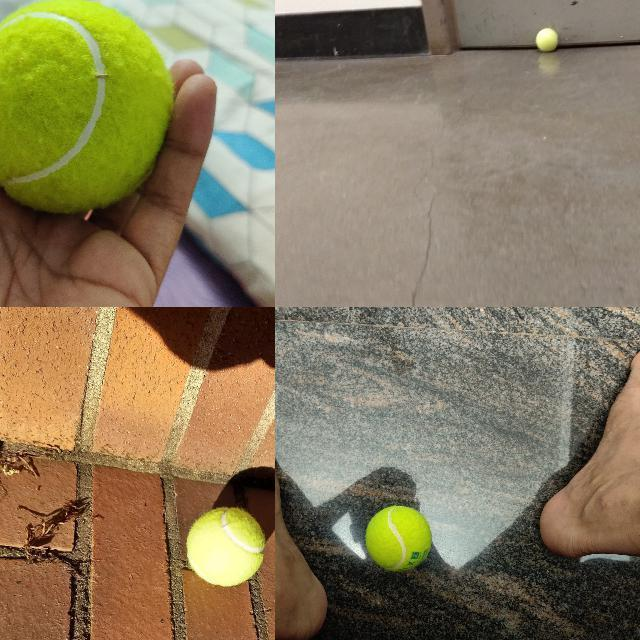tennis-ball: (0, 0, 175, 217), (186, 506, 266, 587), (365, 505, 432, 571), (536, 27, 559, 51)
